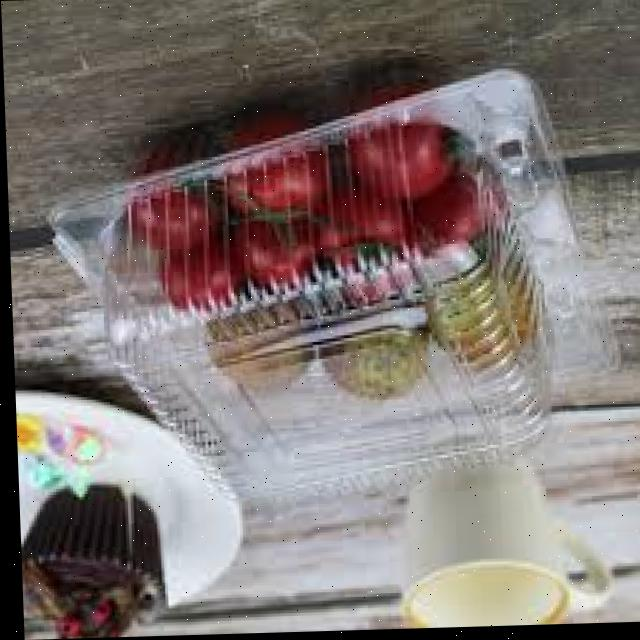disposable: (35, 46, 624, 504)
